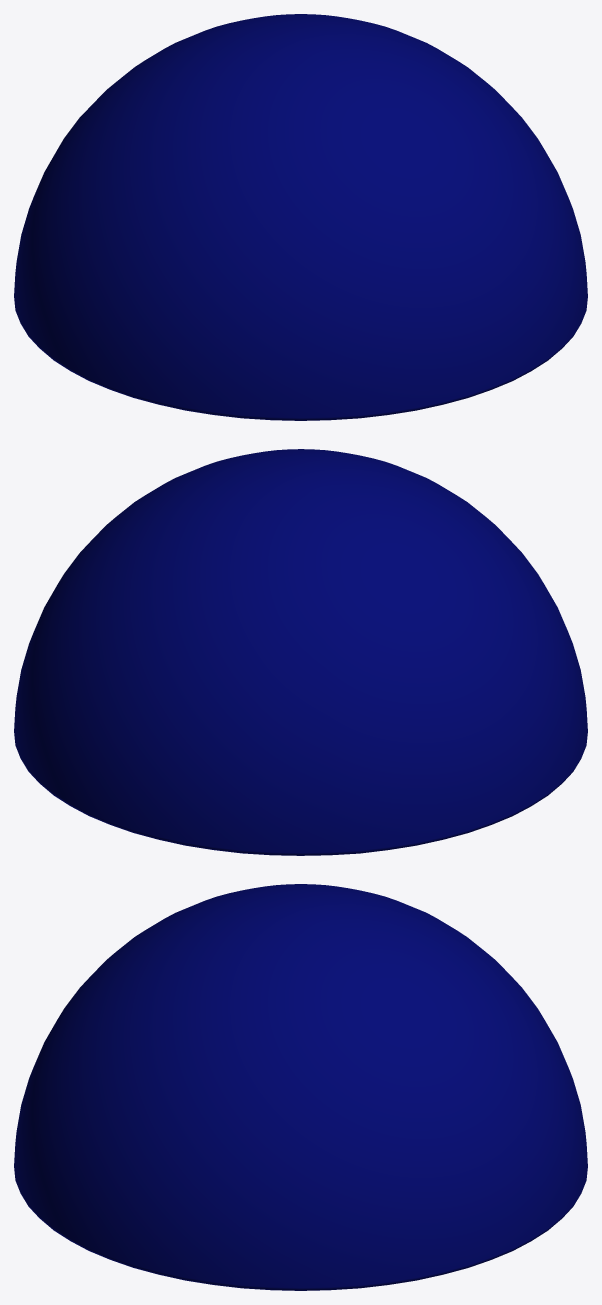
Rendered from Hemisphere.fbx.
3 views of the same model, one above another, from view 1: azimuth 30°, elevation 25°; view 2: azimuth 150°, elevation 25°; view 3: azimuth 270°, elevation 25° (orthographic).
Visible parts, largest first — view 1: node_id30; view 2: node_id30; view 3: node_id30.
Boxes of the visible parts, left/top/right/bottom form: node_id30: left=14, top=14, right=587, bottom=420; node_id30: left=14, top=449, right=587, bottom=855; node_id30: left=14, top=884, right=587, bottom=1290.
Bounding box in the file's own units: 0.512 × 0.256 × 0.5115.
Materials: 1 (1 with a texture image).
